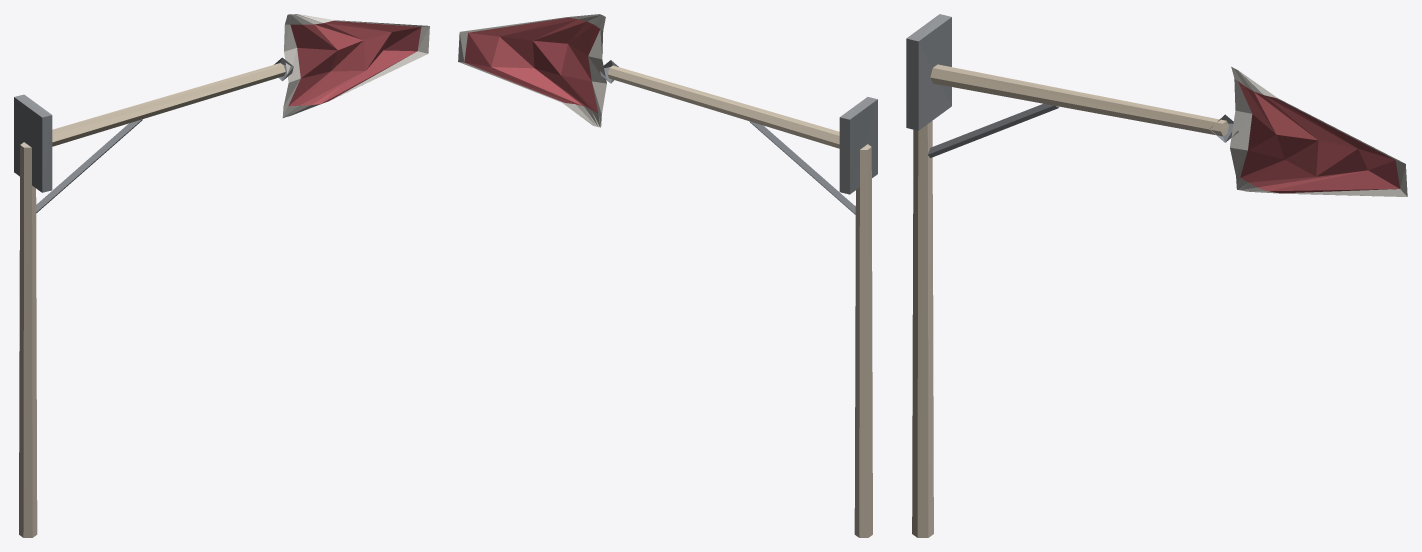
Rendered from flag.pennant.lingqi__pole.horizontal.xiecheng__armFly.glb.
3 renders of one model, left to right at view 1: azimuth 30°, elevation 25°; view 2: azimuth 150°, elevation 25°; view 3: azimuth 330°, elevation 25°, orthographic. The views are drawn at different scales.
Parts seen in each view (by area): view 1: flag.pennant.lingqi; view 2: flag.pennant.lingqi; view 3: flag.pennant.lingqi.
Boxes of the visible parts, x1,y1,x2,y2 form: flag.pennant.lingqi: (14, 14, 429, 537); flag.pennant.lingqi: (458, 14, 877, 537); flag.pennant.lingqi: (906, 14, 1407, 537).
Size of the model in its own units: 3.2 by 3.4 by 0.38.
